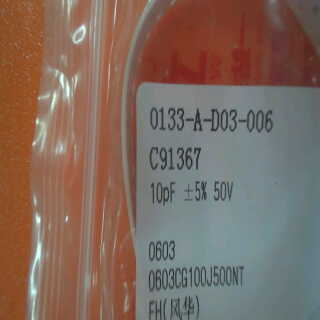10pF: (141, 175, 180, 205)
